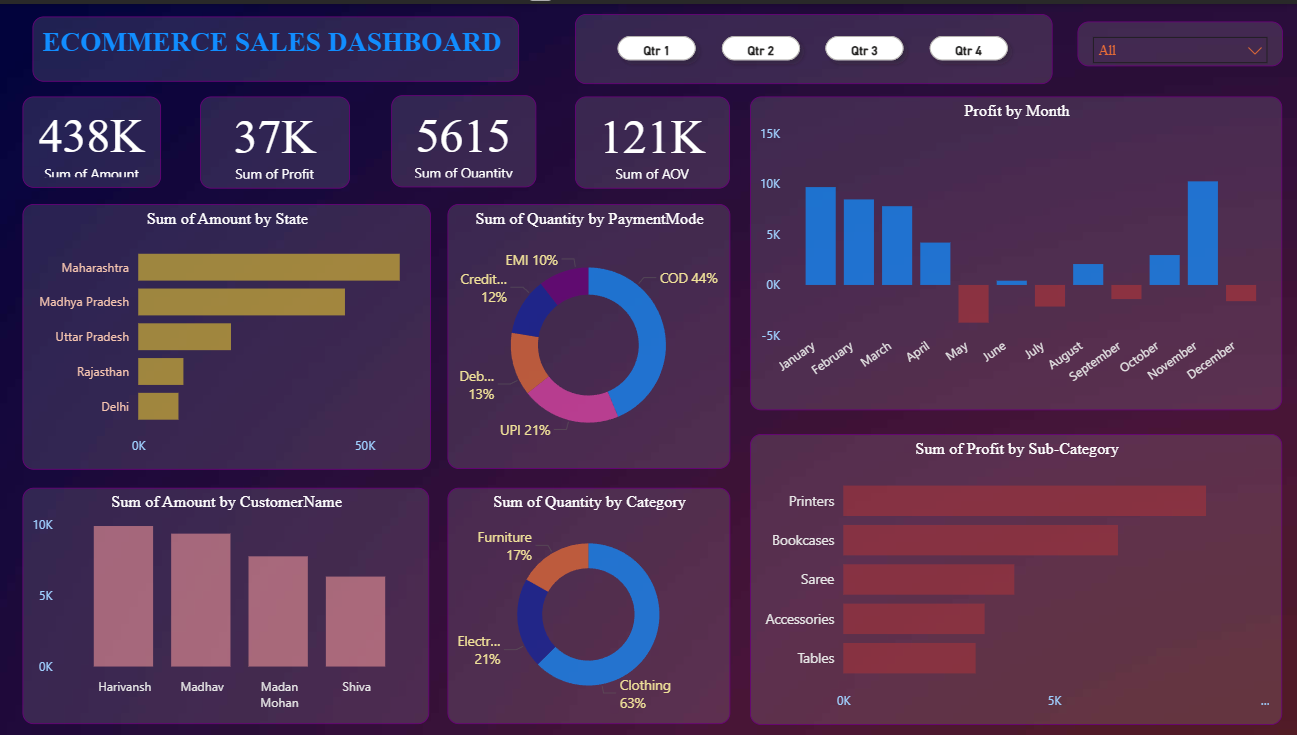

The page's visual inventory and layout, read from the dashboard file:
{"tool":"powerbi","page":{"name":"Page 1","canvas":[1280,720],"ordinal":0},"visuals":[{"type":"textbox","box":[31.9,12.3,477.3,63.8],"z":0},{"type":"columnChart","title":"Profit by Month","fields":{"Category":["Orders.Order Date.Variation.Date Hierarchy.Month"],"Y":["Details.Profit"]},"box":[736.2,90.8,522.7,308],"z":1000},{"type":"barChart","fields":{"Category":["Details.Sub-Category"],"Y":["Details.Profit"]},"box":[736.2,422.1,522.7,285.9],"z":2000},{"type":"donutChart","fields":{"Category":["Details.Category"],"Y":["Details.Quantity"]},"box":[439.3,474.8,277.3,231.9],"z":3000},{"type":"donutChart","fields":{"Category":["Details.PaymentMode"],"Y":["Details.Quantity"]},"box":[439.3,196.3,277.3,260.1],"z":4000},{"type":"card","fields":{"Values":["Details.Amount"]},"box":[22.1,90.8,136.2,89.6],"z":5000},{"type":"card","fields":{"Values":["Details.Quantity"]},"box":[384.1,89.6,142.3,90.8],"z":6000},{"type":"card","fields":{"Values":["Details.Profit"]},"box":[196.3,90.8,147.2,90.8],"z":7000},{"type":"card","fields":{"Values":["Details.AOV"]},"box":[564.4,90.8,152.1,90.8],"z":8000},{"type":"barChart","fields":{"Category":["Orders.State"],"Y":["Details.Amount"]},"box":[22,196.2,400.7,260.7],"z":9000},{"type":"columnChart","fields":{"Category":["Orders.CustomerName"],"Y":["Details.Amount"]},"box":[22,474.8,399.3,231.9],"z":10000},{"type":"advancedSlicerVisual","fields":{"Values":["Orders.Order Date.Variation.Date Hierarchy.Quarter"]},"box":[564.4,9.8,468.7,68.7],"z":11000},{"type":"slicer","fields":{"Values":["Orders.State"]},"box":[1057.7,17.2,201.2,44.2],"z":11001}]}

Visuals, with their boxes in screenshot pixels (x1, y1, x2, y2), scaled from the page's 1280x720 canvas onto the 1297x735 screenshot:
textbox: l=32, t=13, r=516, b=78
"Profit by Month" columnChart: l=746, t=93, r=1276, b=407
barChart - Details.Sub-Category x Details.Profit: l=746, t=431, r=1276, b=723
donutChart - Details.Category x Details.Quantity: l=445, t=485, r=726, b=721
donutChart - Details.PaymentMode x Details.Quantity: l=445, t=200, r=726, b=466
card - Details.Amount: l=22, t=93, r=160, b=184
card - Details.Quantity: l=389, t=91, r=533, b=184
card - Details.Profit: l=199, t=93, r=348, b=185
card - Details.AOV: l=572, t=93, r=726, b=185
barChart - Orders.State x Details.Amount: l=22, t=200, r=428, b=466
columnChart - Orders.CustomerName x Details.Amount: l=22, t=485, r=427, b=721
advancedSlicerVisual - Orders.Order Date.Variation.Date Hierarchy.Quarter: l=572, t=10, r=1047, b=80
slicer - Orders.State: l=1072, t=18, r=1276, b=63
